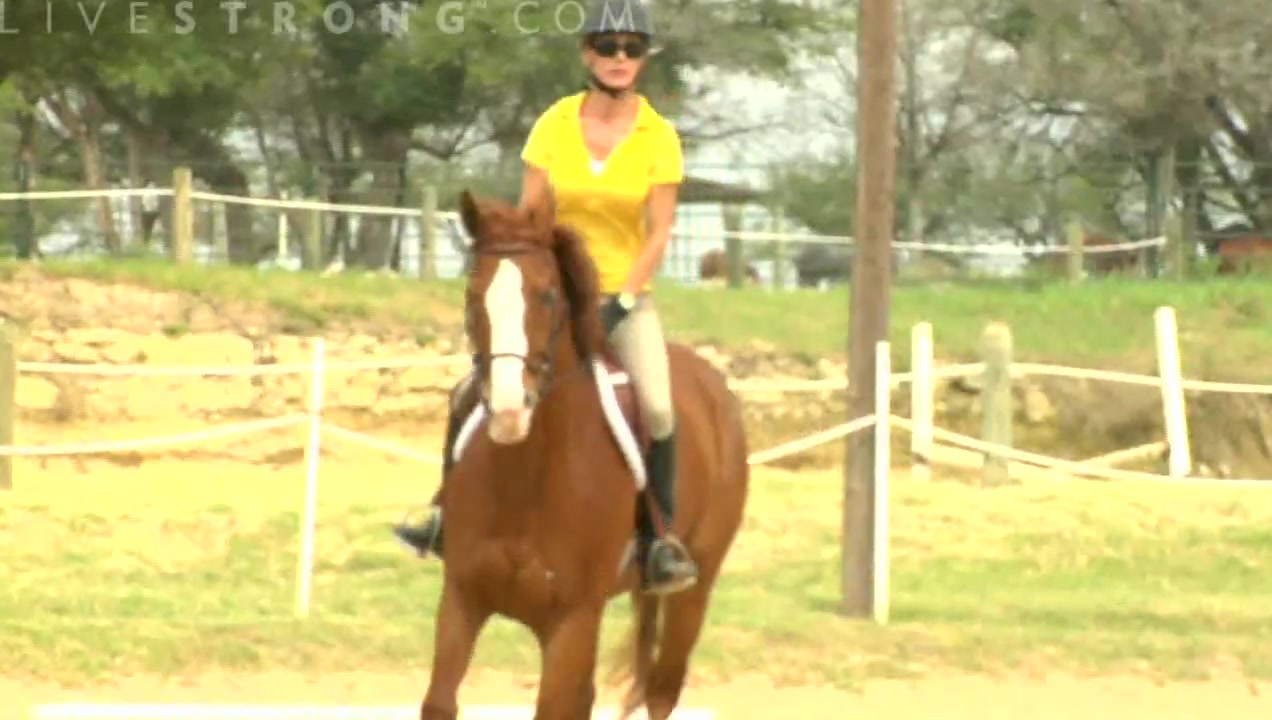horse: (418, 184, 754, 720)
